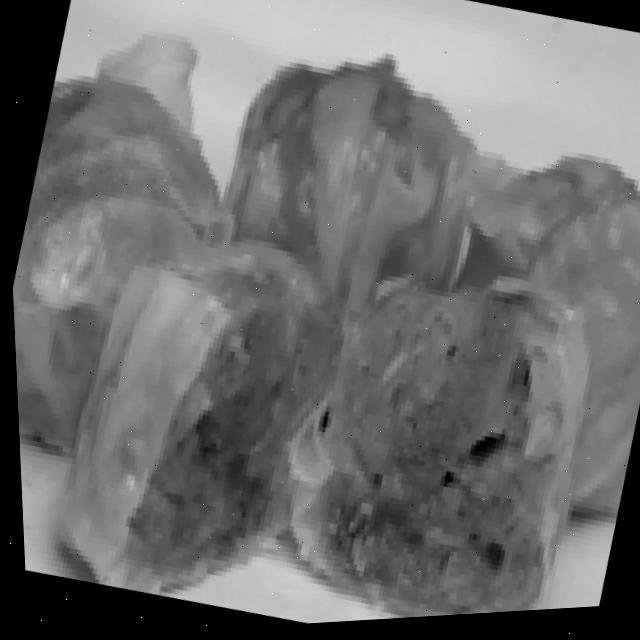带馅早点: (2, 32, 640, 640)
